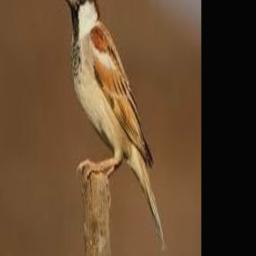Sparrow: (63, 0, 167, 253)
